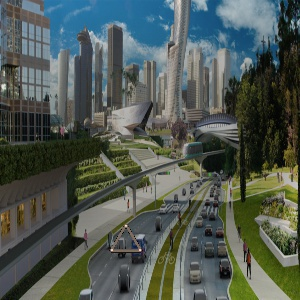triangle: (108, 222, 145, 255)
